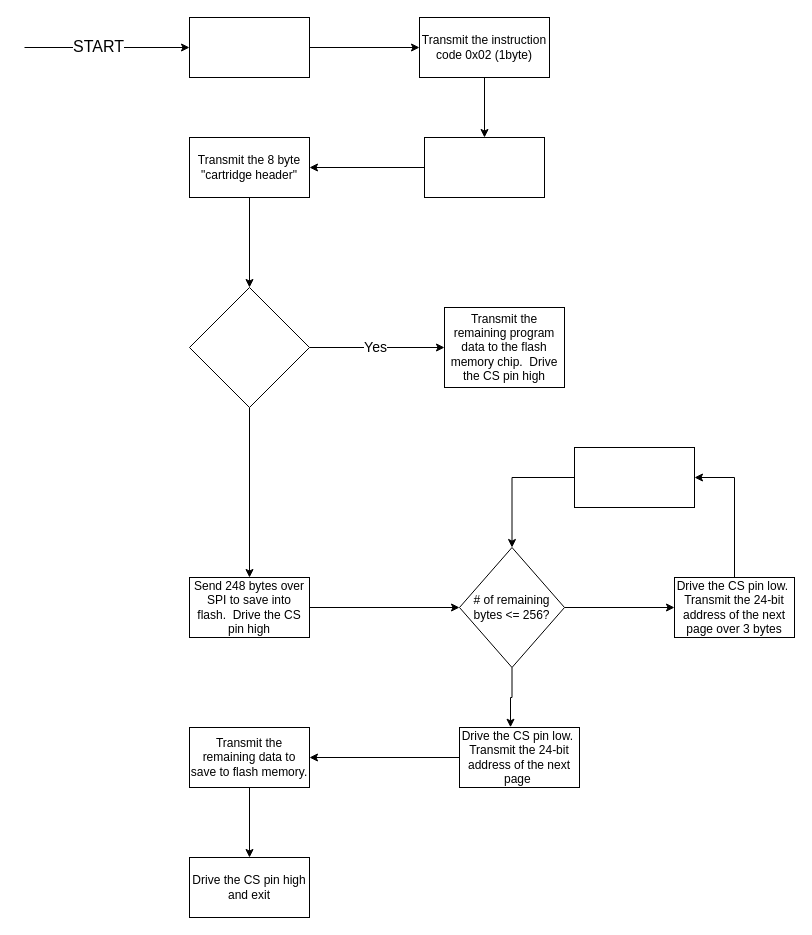
The diagram is 812 pixels wide and 935 high, and some of its shapes have lost their labels. Here are the shapes that lost their labels. From the top down, the centre of each, then its label:
the point at 249,47: Drive the CS pin low for chip 1
the point at 484,167: Transmit the 24-bit starting address to the flash chip (0x00)
the point at 249,347: Is the # bytes to transmit <= 248
the point at 634,477: Transmit the next 256 bytes of data over SPI. Drive the CS pin high
